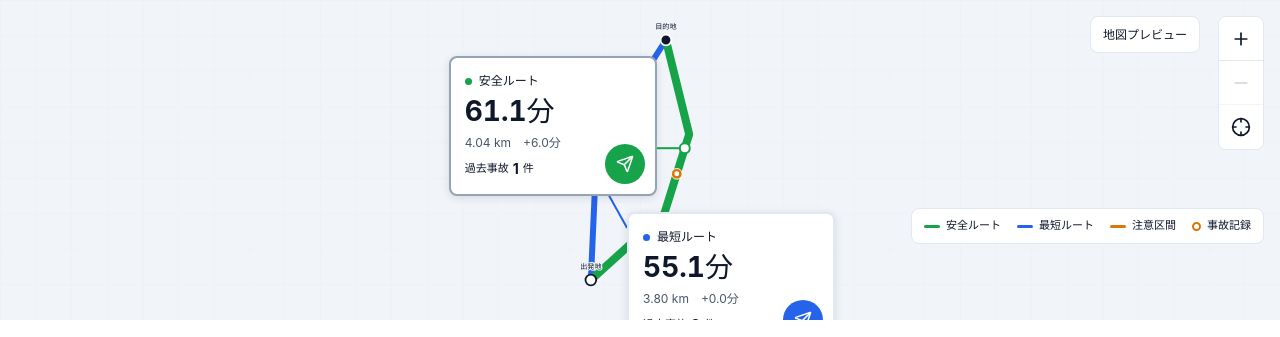
Test case: RouteMap › tells that navigation is not available yet instead of doing nothing
Click the button named "安全ルートでナビを開始": (625,164) [605,144,645,184]
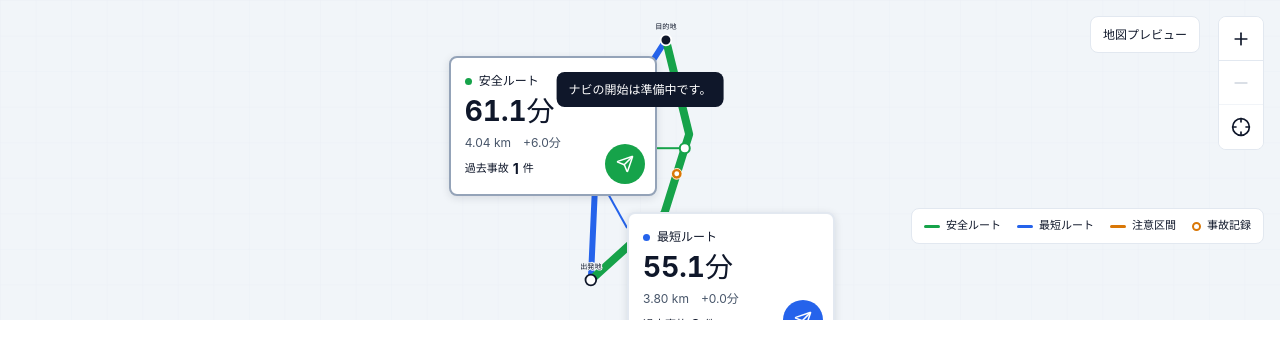
Expected: the message reads "ナビの開始は準備中です。", [569,82,711,97]
